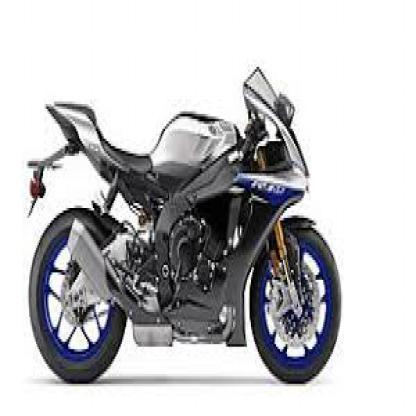Motorcycle: (22, 56, 344, 390)
